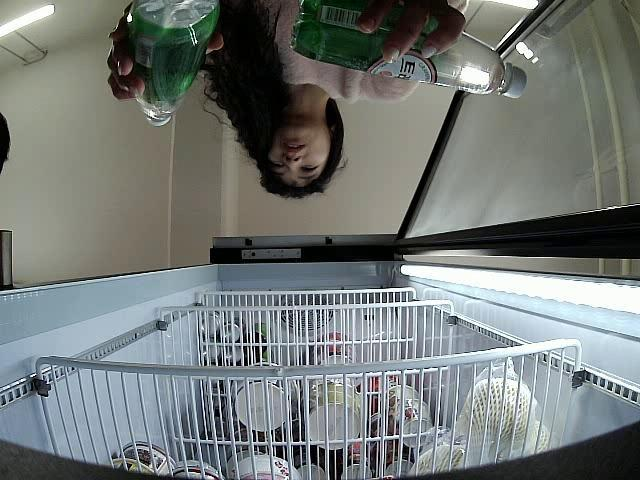18_trevi: (290, 0, 529, 101), (130, 0, 218, 129)
